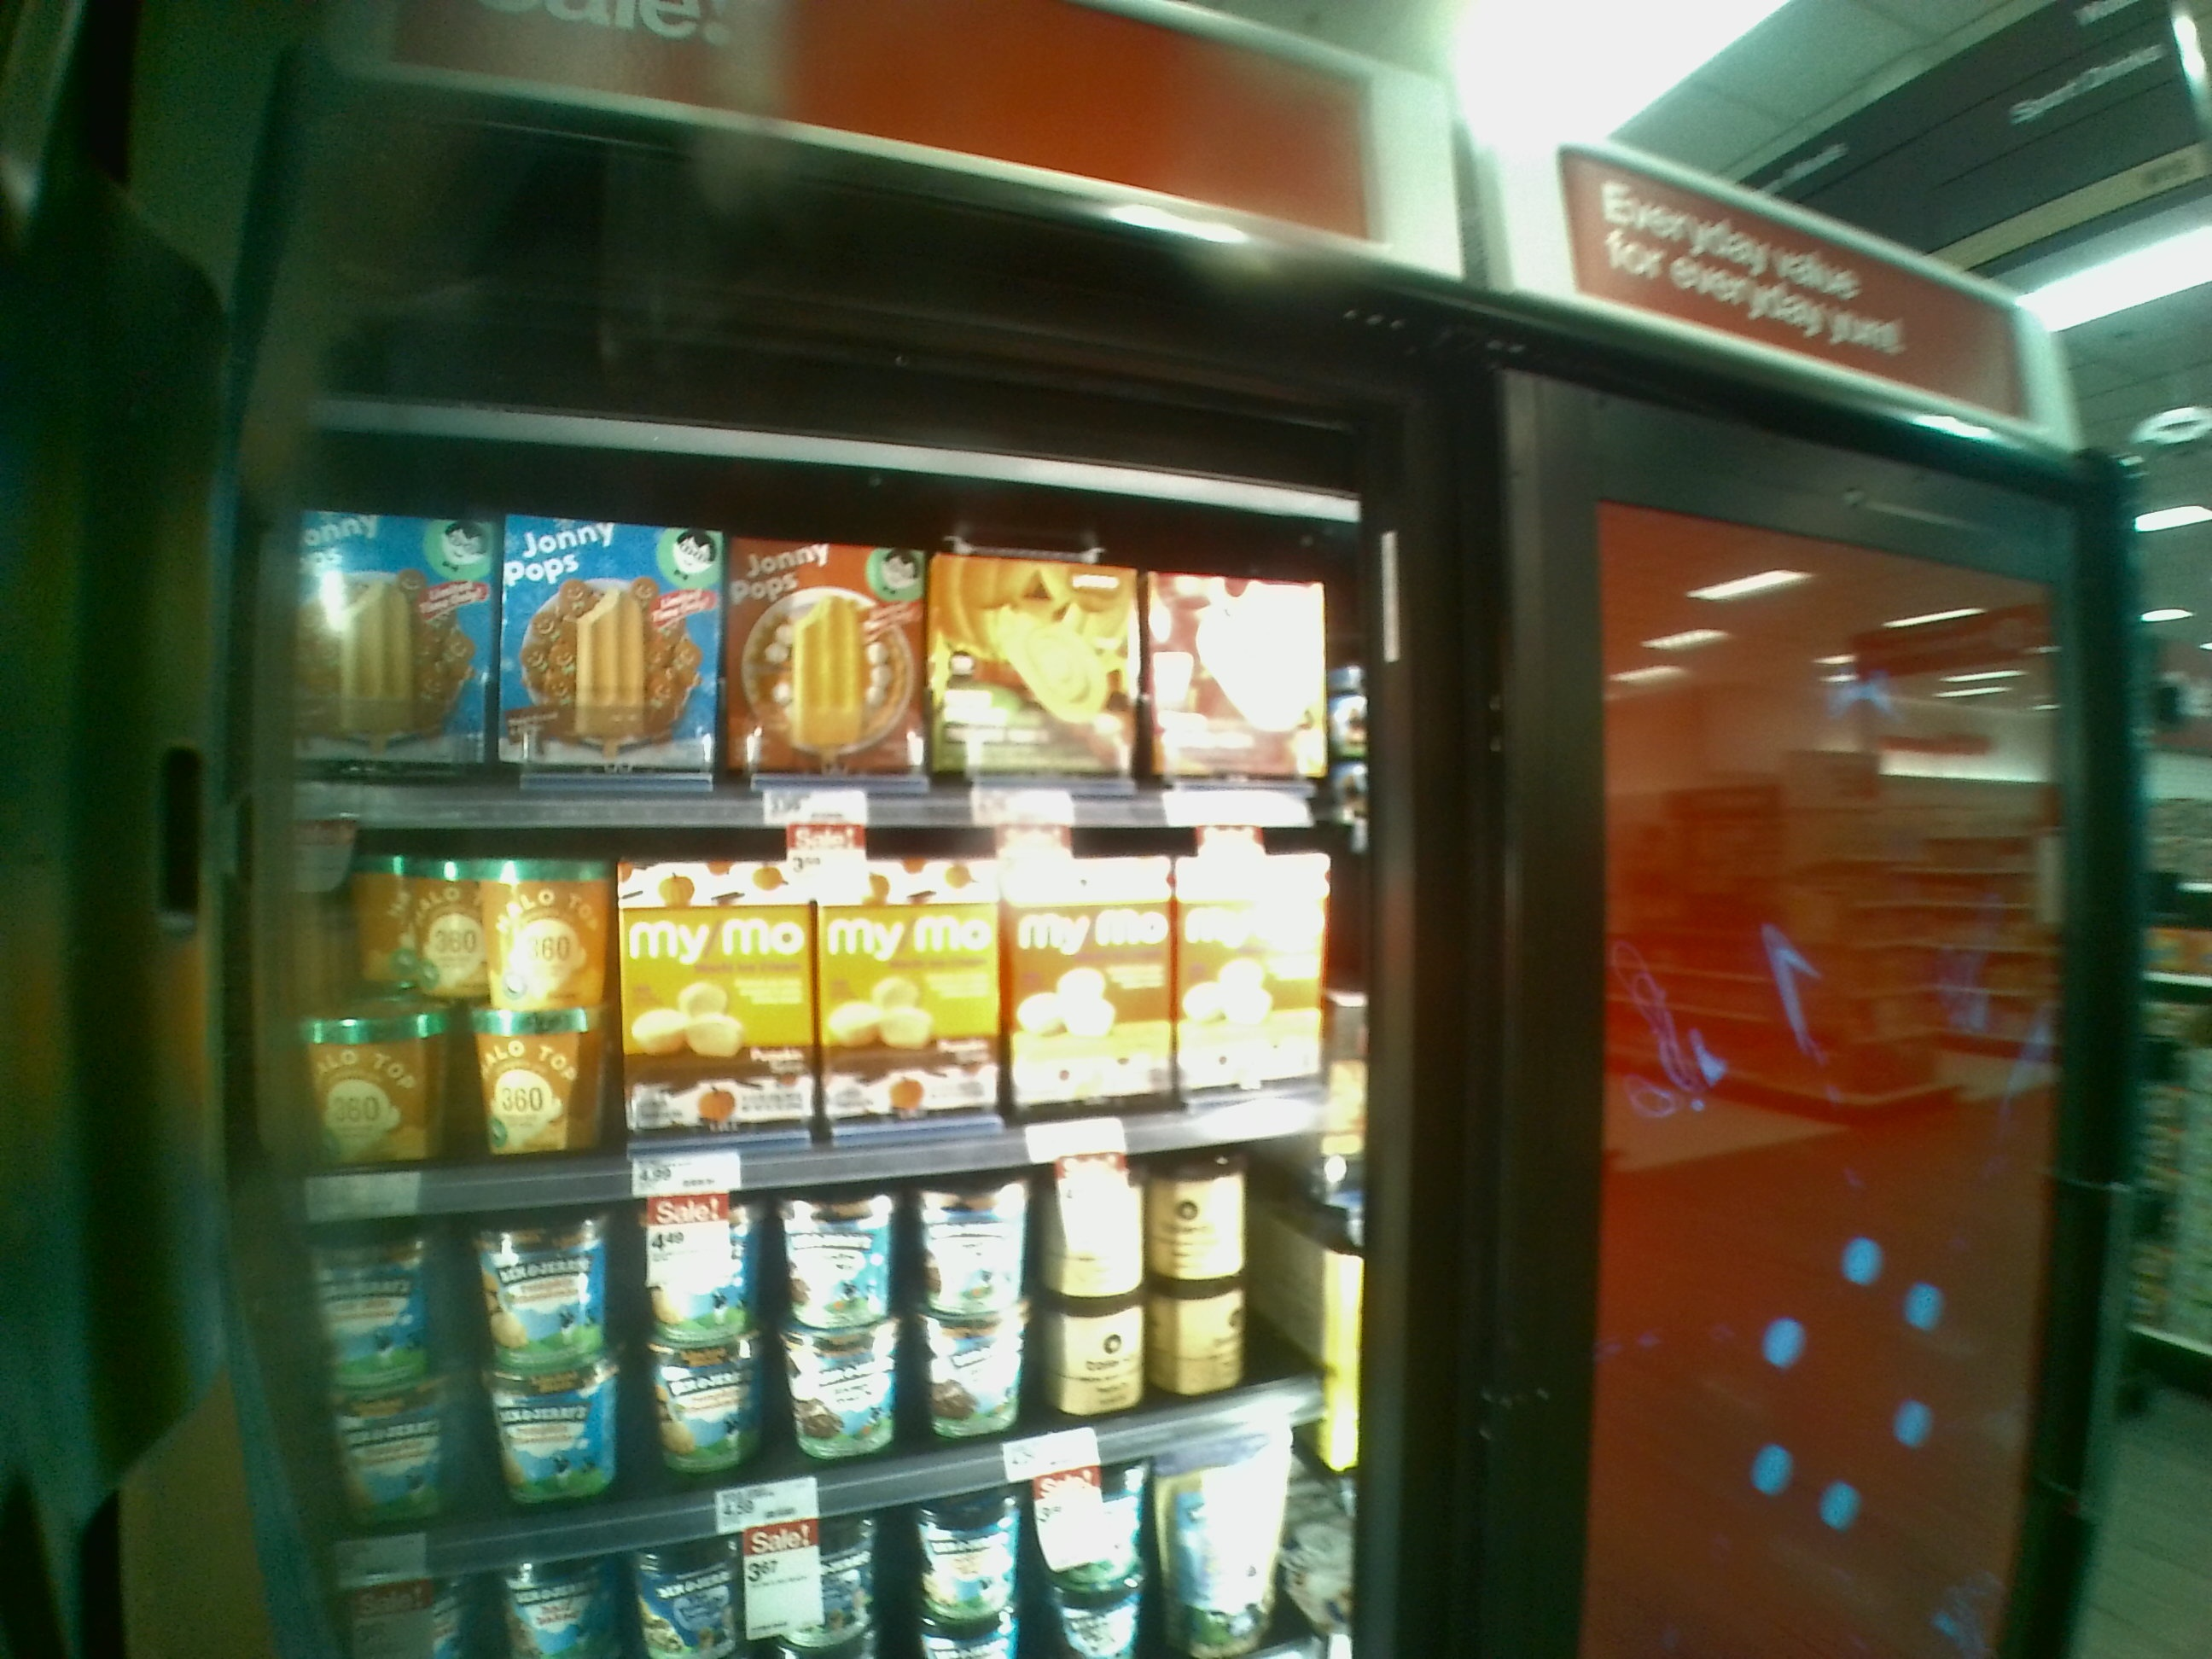shelf: (253, 798, 1362, 1176), (254, 450, 1369, 817), (270, 1133, 1385, 1500)
